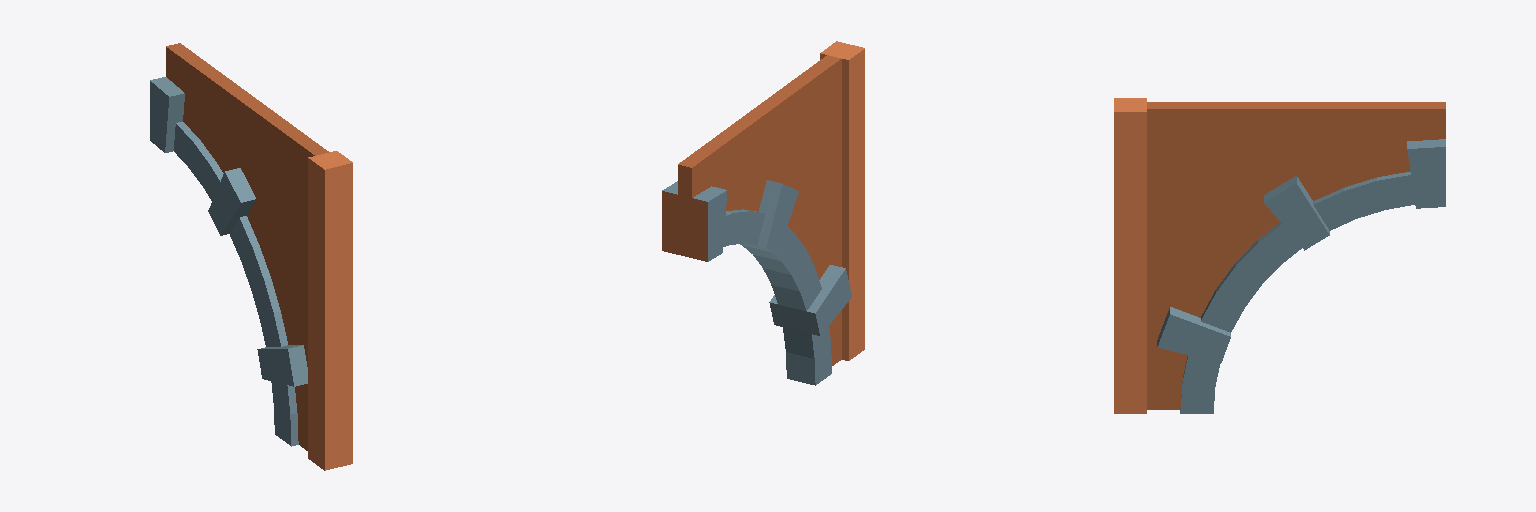
File: wallWoodArchTopDetail.obj
The picture shows the model from 3 angles: view 1: azimuth 30°, elevation 25°; view 2: azimuth 150°, elevation 25°; view 3: azimuth 270°, elevation 25°; orthographic projection.
Visible parts, largest first — view 1: wallWoodArchTopDetail; view 2: wallWoodArchTopDetail; view 3: wallWoodArchTopDetail.
Part boxes in pixels (x1,y1,x2,y2): wallWoodArchTopDetail: (150,43,352,470); wallWoodArchTopDetail: (662,41,864,385); wallWoodArchTopDetail: (1114,98,1445,413).
Bounding box in the file's own units: 0.16 × 1 × 1.